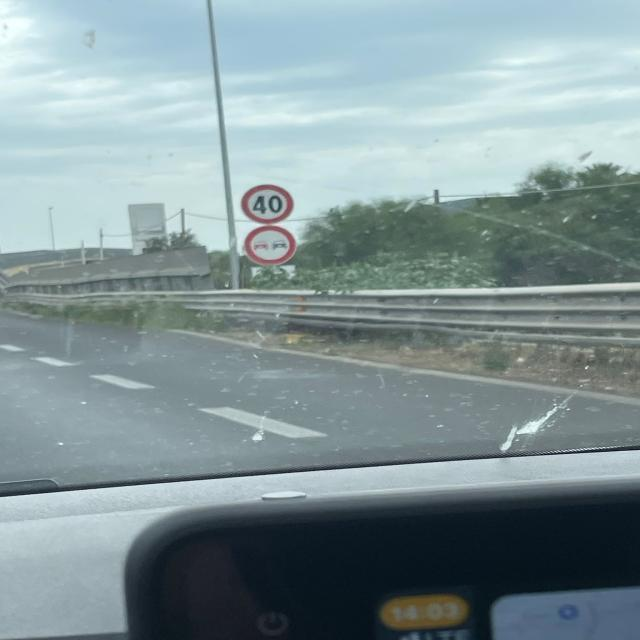forb_overtake: (244, 226, 297, 266)
forb_speed_over_40: (241, 182, 295, 224)
